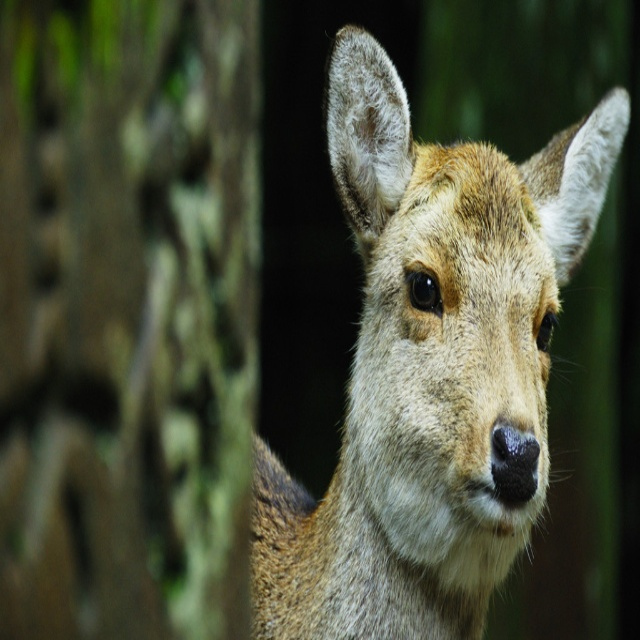Deer: (253, 22, 630, 639)
